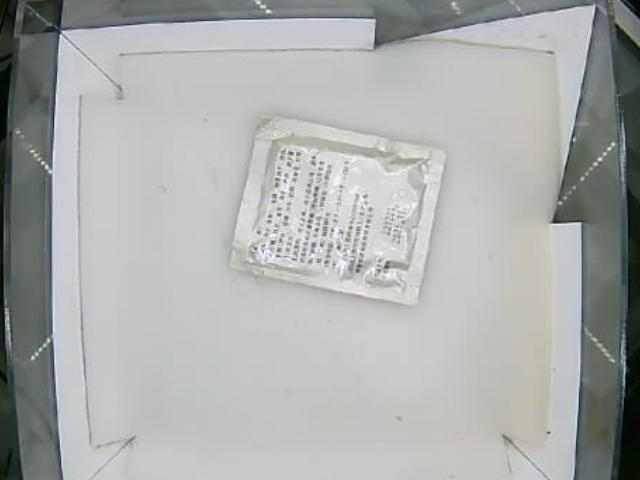Medicine: (229, 113, 443, 303)
